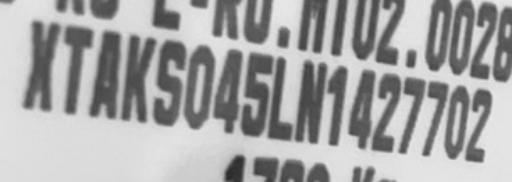letter: (20, 19, 62, 115), (59, 22, 95, 121), (118, 33, 156, 125), (151, 37, 187, 127), (292, 56, 328, 146), (182, 41, 218, 130), (240, 49, 276, 137), (87, 28, 121, 120), (212, 46, 244, 136), (264, 54, 296, 139), (345, 64, 377, 149), (370, 69, 402, 152), (395, 72, 427, 153), (418, 78, 450, 156), (442, 81, 472, 159), (463, 86, 493, 161), (324, 61, 348, 147)
